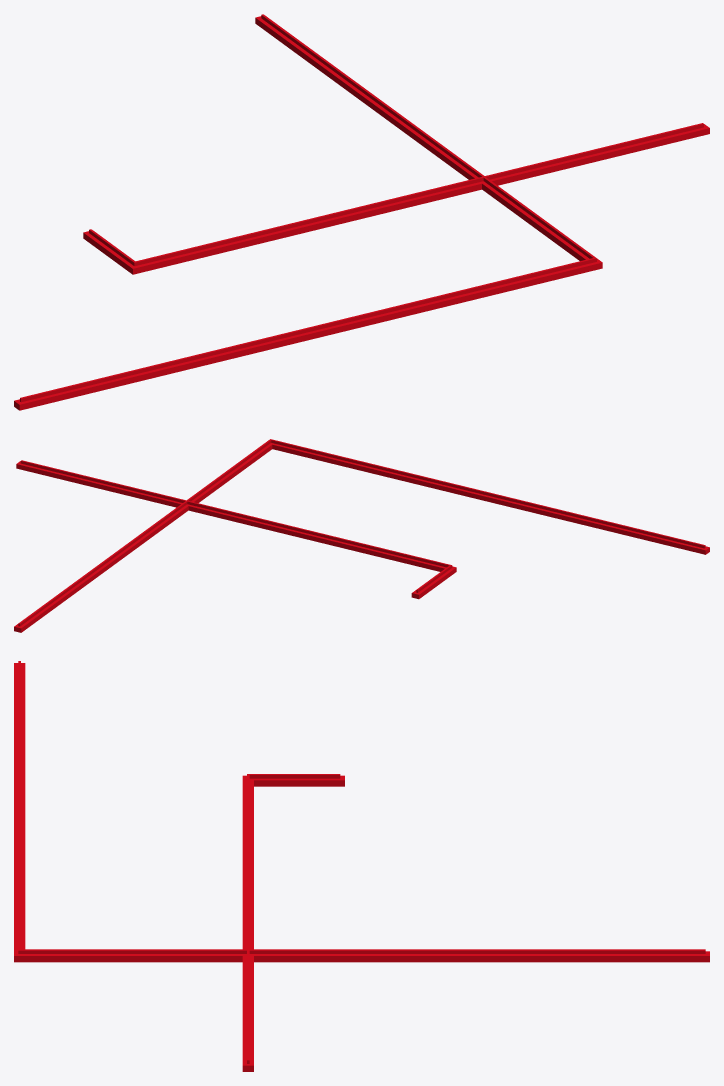
The model's file is Kitchen_Rails.fbx.
3 views of the same model, one above another, from view 1: azimuth 30°, elevation 25°; view 2: azimuth 150°, elevation 25°; view 3: azimuth 270°, elevation 25° (orthographic). The views are drawn at different scales.
Parts seen in each view (by area): view 1: mesh_Rails_Kitchen; view 2: mesh_Rails_Kitchen; view 3: mesh_Rails_Kitchen.
Boxes of the visible parts, <box> form: mesh_Rails_Kitchen: <box>14,14,709,410</box>; mesh_Rails_Kitchen: <box>14,439,709,632</box>; mesh_Rails_Kitchen: <box>14,661,709,1071</box>.
Bounding box in the file's own units: 335 × 3.78 × 245.
